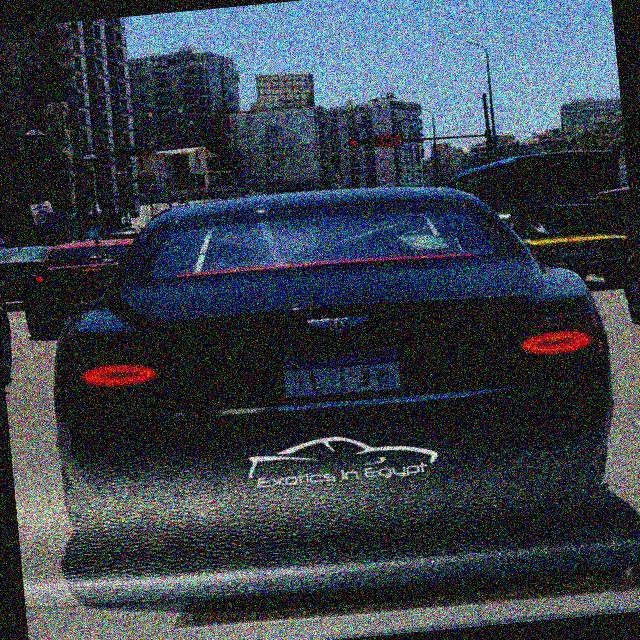License Plate: (276, 340, 407, 404)
